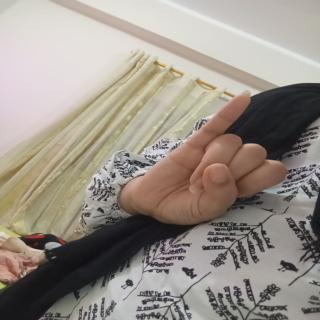MEEM: (118, 84, 290, 241)
